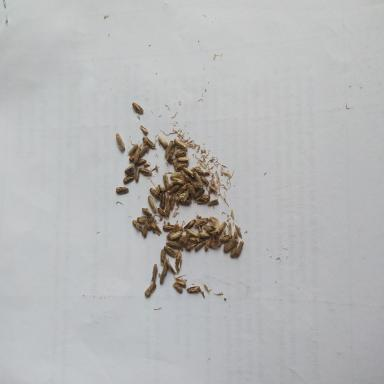pbw: (133, 142, 143, 164), (173, 138, 188, 151), (144, 282, 156, 298), (175, 251, 183, 274), (142, 136, 156, 149), (128, 148, 141, 162), (224, 238, 237, 252), (116, 132, 125, 152), (162, 222, 177, 234), (150, 263, 158, 285), (148, 195, 157, 214), (182, 219, 196, 231), (163, 245, 177, 257), (180, 170, 192, 184), (164, 140, 173, 158), (235, 240, 244, 258), (166, 258, 176, 274), (193, 168, 203, 184), (193, 217, 209, 227), (132, 102, 144, 115), (214, 221, 226, 234), (151, 222, 162, 236), (139, 221, 148, 238), (139, 144, 149, 159), (196, 194, 211, 204), (149, 188, 161, 200), (168, 192, 176, 210), (166, 147, 175, 163), (194, 187, 205, 200), (132, 219, 143, 232), (174, 277, 187, 288), (187, 182, 197, 196), (147, 215, 157, 229), (171, 157, 179, 174), (159, 191, 166, 210), (176, 184, 187, 196), (158, 207, 170, 218), (123, 173, 135, 184), (158, 135, 168, 148), (167, 184, 180, 194), (186, 228, 199, 238), (169, 230, 182, 240), (209, 240, 222, 250), (172, 177, 186, 186), (175, 161, 189, 170), (163, 173, 170, 191), (139, 167, 153, 176), (212, 233, 221, 247), (172, 282, 183, 293), (179, 190, 190, 201), (128, 144, 138, 156), (194, 241, 206, 251), (175, 148, 187, 158), (186, 286, 201, 294), (166, 241, 181, 249), (200, 175, 210, 187), (164, 196, 170, 215), (136, 216, 152, 223), (204, 238, 212, 252), (183, 166, 193, 177), (178, 234, 189, 244), (124, 164, 135, 174), (160, 248, 166, 266), (220, 234, 232, 243), (170, 171, 182, 180), (230, 244, 237, 259), (170, 226, 183, 234), (140, 124, 148, 136), (235, 224, 241, 239), (142, 207, 152, 216), (208, 198, 219, 206), (193, 168, 204, 176), (208, 216, 219, 224), (135, 165, 140, 182), (190, 237, 202, 244), (116, 187, 128, 194), (166, 230, 175, 239), (186, 241, 196, 249), (160, 269, 165, 285), (209, 185, 219, 193), (176, 156, 189, 162), (136, 158, 147, 165), (155, 185, 166, 192), (199, 231, 210, 238), (163, 262, 168, 276), (175, 193, 180, 206), (204, 225, 214, 231), (162, 258, 166, 270), (198, 226, 202, 236)
